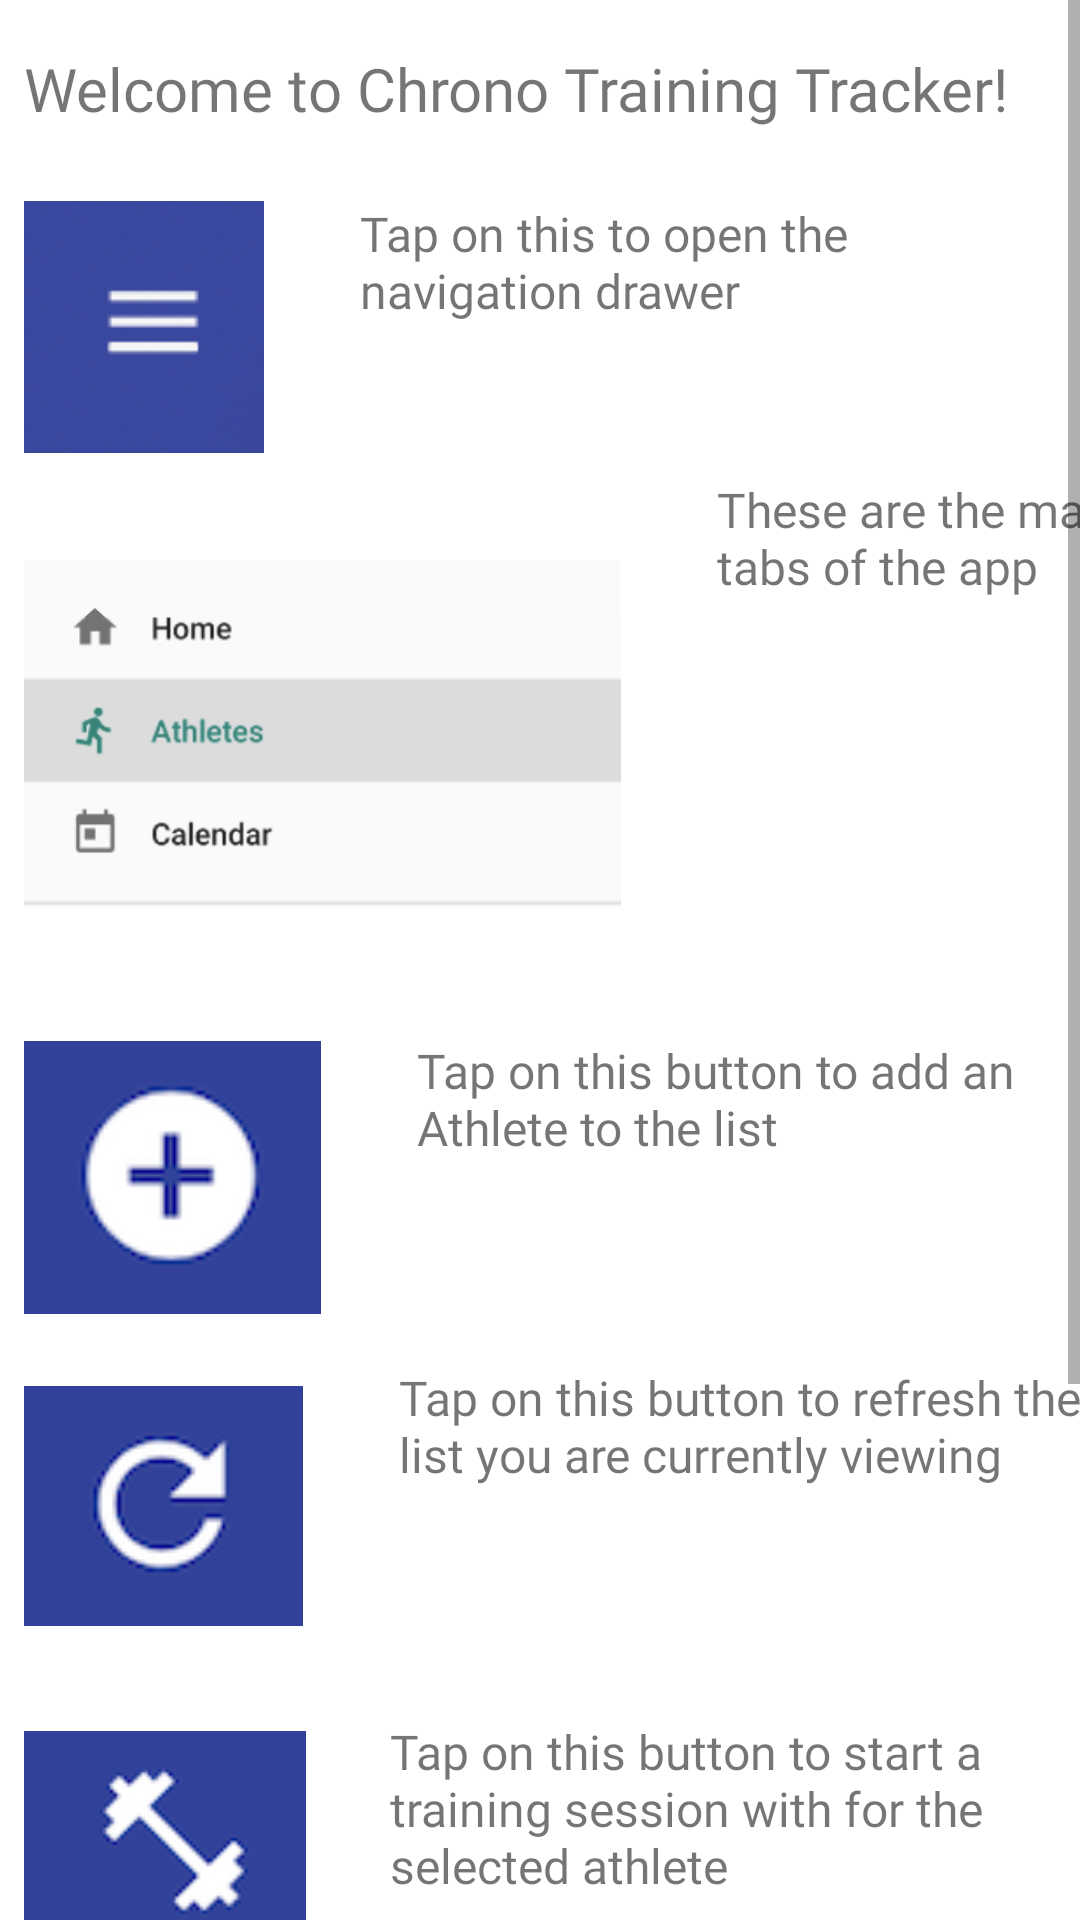

Named icons in this screenshot (1080*1920) and their centers, (x=x, y=y):
nav: (x=144, y=327)
